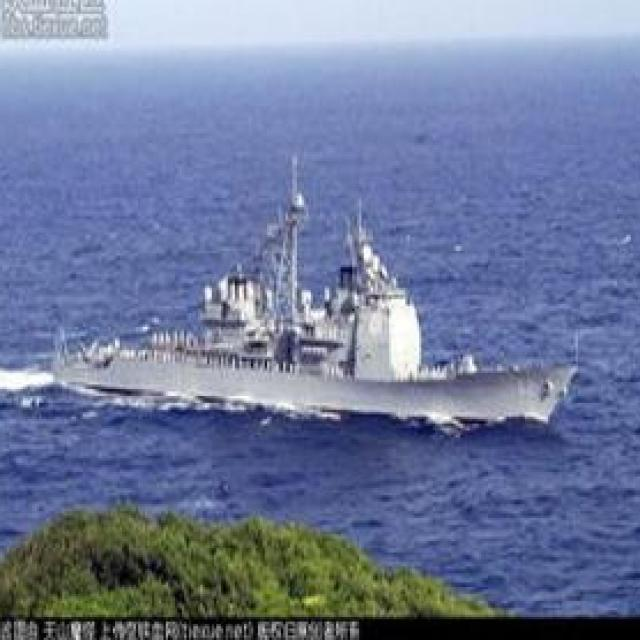navalvessels: (39, 169, 578, 428)
